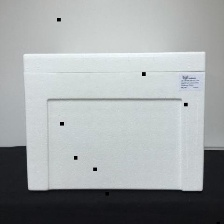foam_box: (18, 48, 209, 194)
